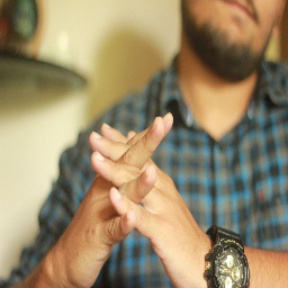W: (74, 100, 182, 274)
